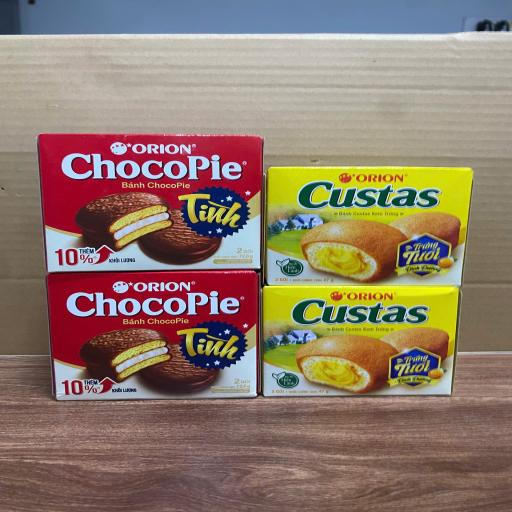chocopie: (38, 133, 263, 272), (46, 269, 260, 401)
custas: (265, 166, 474, 287), (260, 286, 462, 396)
